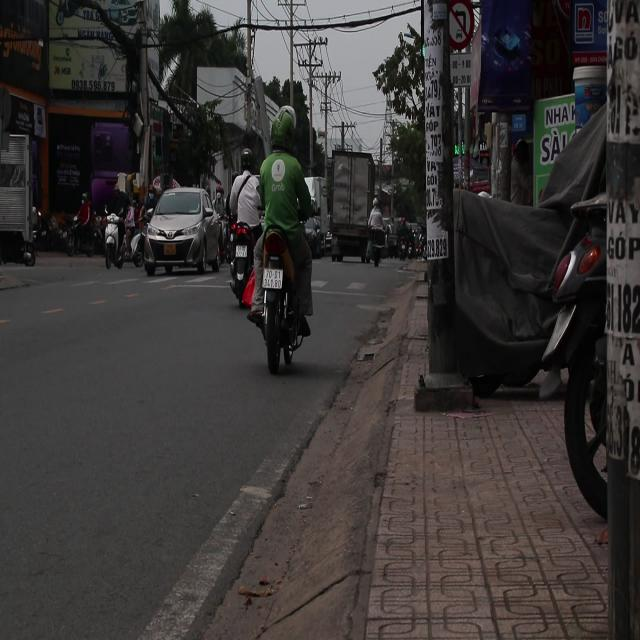car: (138, 188, 222, 276)
motorbike: (249, 227, 305, 376), (218, 177, 260, 321), (58, 202, 100, 268), (105, 214, 132, 270)
truck: (330, 152, 380, 259)
